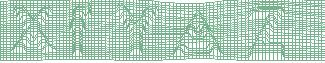A: (170, 9, 224, 58)
X: (9, 4, 58, 55)
Y: (114, 2, 161, 56)
Z: (246, 6, 287, 61)
f: (66, 4, 92, 58)
